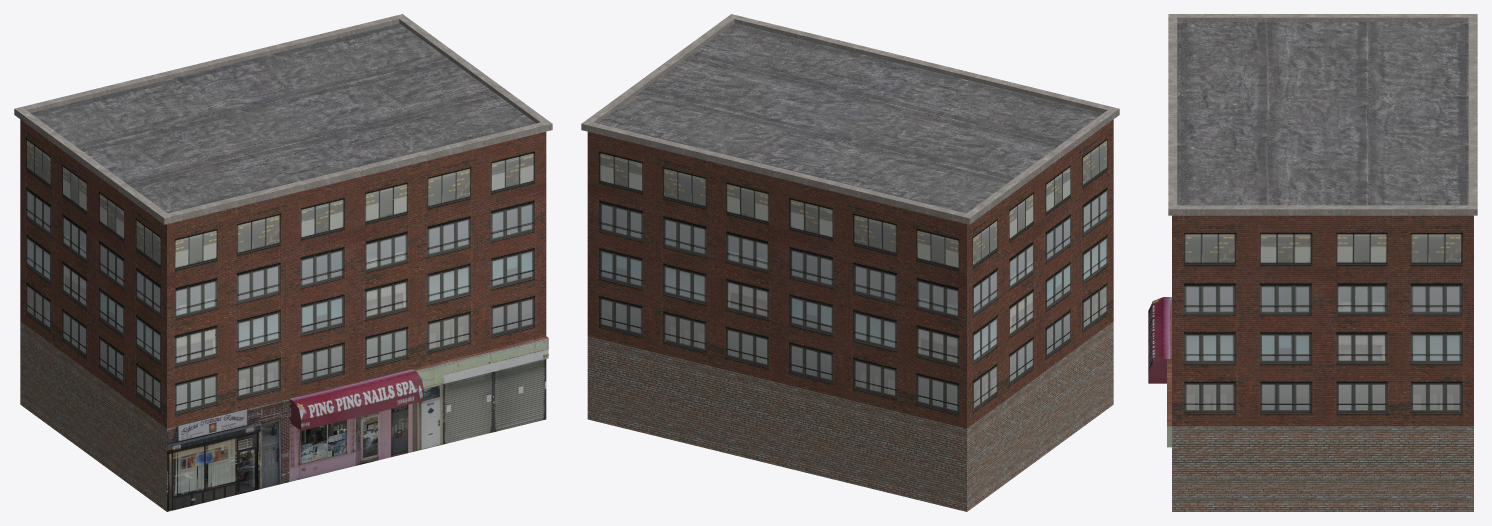
The model's file is building-04.glb.
The picture shows the model from 3 angles, left to right: view 1: azimuth 30°, elevation 25°; view 2: azimuth 150°, elevation 25°; view 3: azimuth 270°, elevation 25°; orthographic projection. The views are drawn at different scales.
Visible parts, largest first — view 1: Building_04; view 2: Building_04; view 3: Building_04.
Part boxes in pixels (<box>): Building_04: <box>14,14,552,511</box>; Building_04: <box>581,14,1119,511</box>; Building_04: <box>1148,14,1477,511</box>.
Size of the model in its own units: 25.49 by 18.56 by 18.15.
7 materials, 7 textured.
